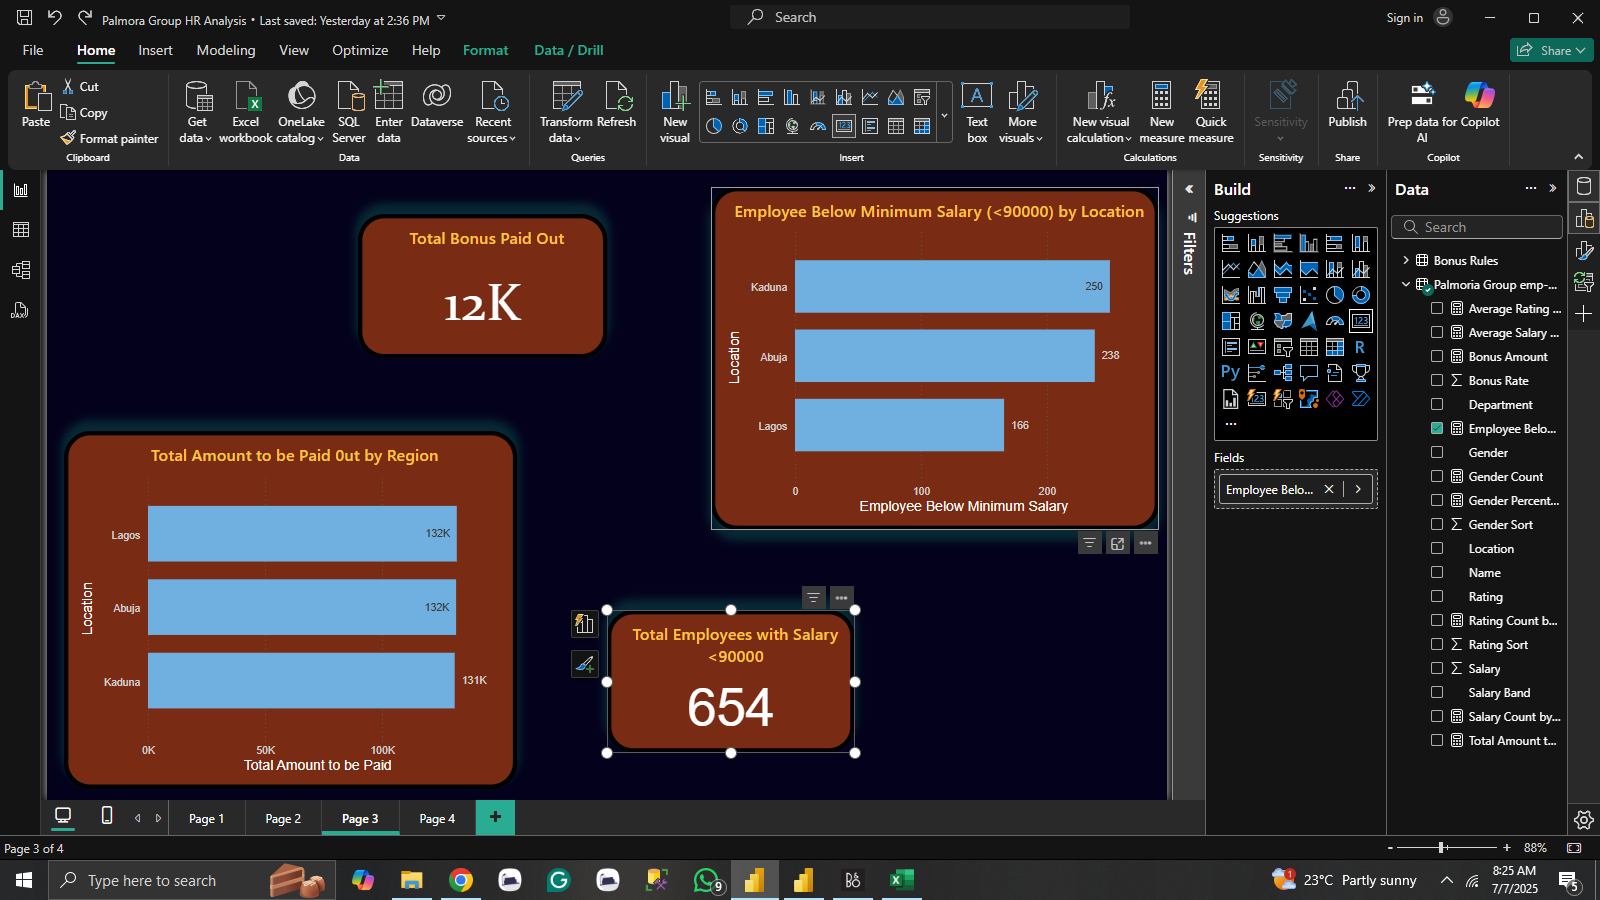

The page's visual inventory and layout, read from the dashboard file:
{"tool":"powerbi","page":{"name":"Page 3","canvas":[1280,720],"ordinal":2},"visuals":[{"type":"clusteredBarChart","fields":{"Y":["Palmoria Group emp-data (ORIGINAL).Employee Below Minimum Salary"],"Category":["Palmoria Group emp-data (ORIGINAL).Location"]},"box":[758.6,18.9,512,392.1],"z":0},{"type":"clusteredBarChart","title":"Total Amount to be Paid 0ut by Region","fields":{"Y":["Palmoria Group emp-data (ORIGINAL).Total Amount to be Paid"],"Category":["Palmoria Group emp-data (ORIGINAL).Location"]},"box":[14.8,297.8,517.4,409.6],"z":1000},{"type":"card","title":"Total Bonus Paid Out","fields":{"Values":["Palmoria Group emp-data (ORIGINAL).Bonus Amount"]},"box":[285.6,70.1,284.3,164.4],"z":2000},{"type":"card","title":"Total Amount to be Paid Out","fields":{"Values":["Palmoria Group emp-data (ORIGINAL).Total Amount to be Paid"]},"box":[654.8,464.8,308.5,164.4],"z":3000}]}

Visuals, with their boxes on the page's 1280x720 design canvas (x1, y1, x2, y2). These are canvas units, not pixel positions in the 1600x900 screenshot, which may show the page scaled, cropped or inside an application window:
clusteredBarChart - Palmoria Group emp-data (ORIGINAL).Employee Below Minimum Salary x Palmoria Group emp-data (ORIGINAL).Location: 759, 19, 1271, 411
"Total Amount to be Paid 0ut by Region" clusteredBarChart: 15, 298, 532, 707
"Total Bonus Paid Out" card: 286, 70, 570, 234
"Total Amount to be Paid Out" card: 655, 465, 963, 629
